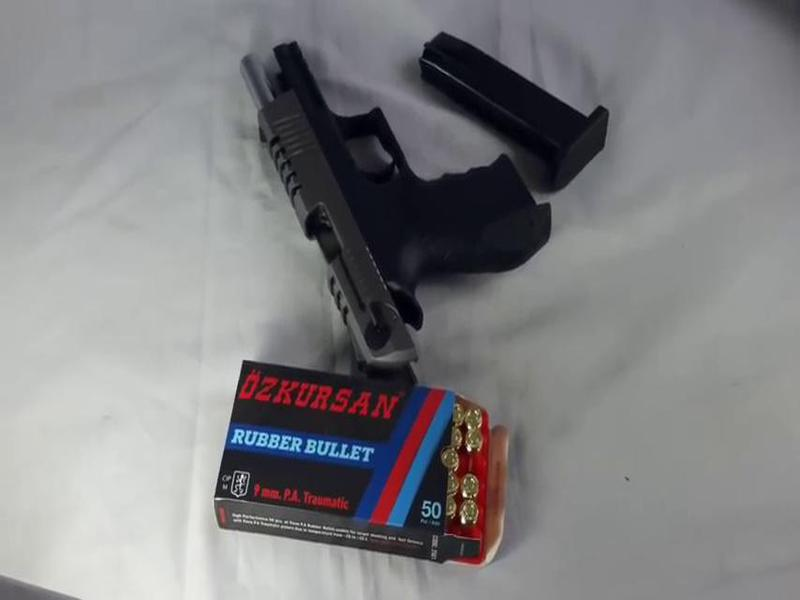Pistola: (231, 28, 566, 400)
